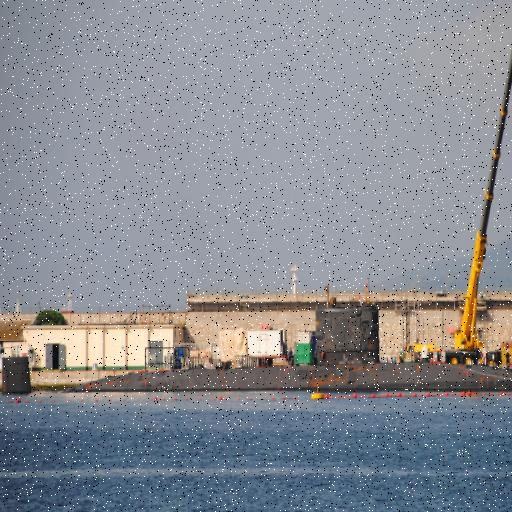submarine: (1, 307, 512, 397)
